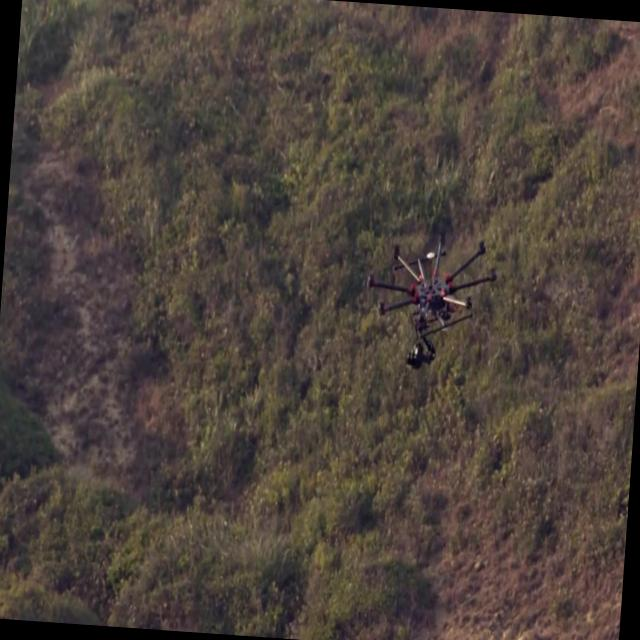drone: (360, 222, 500, 375)
